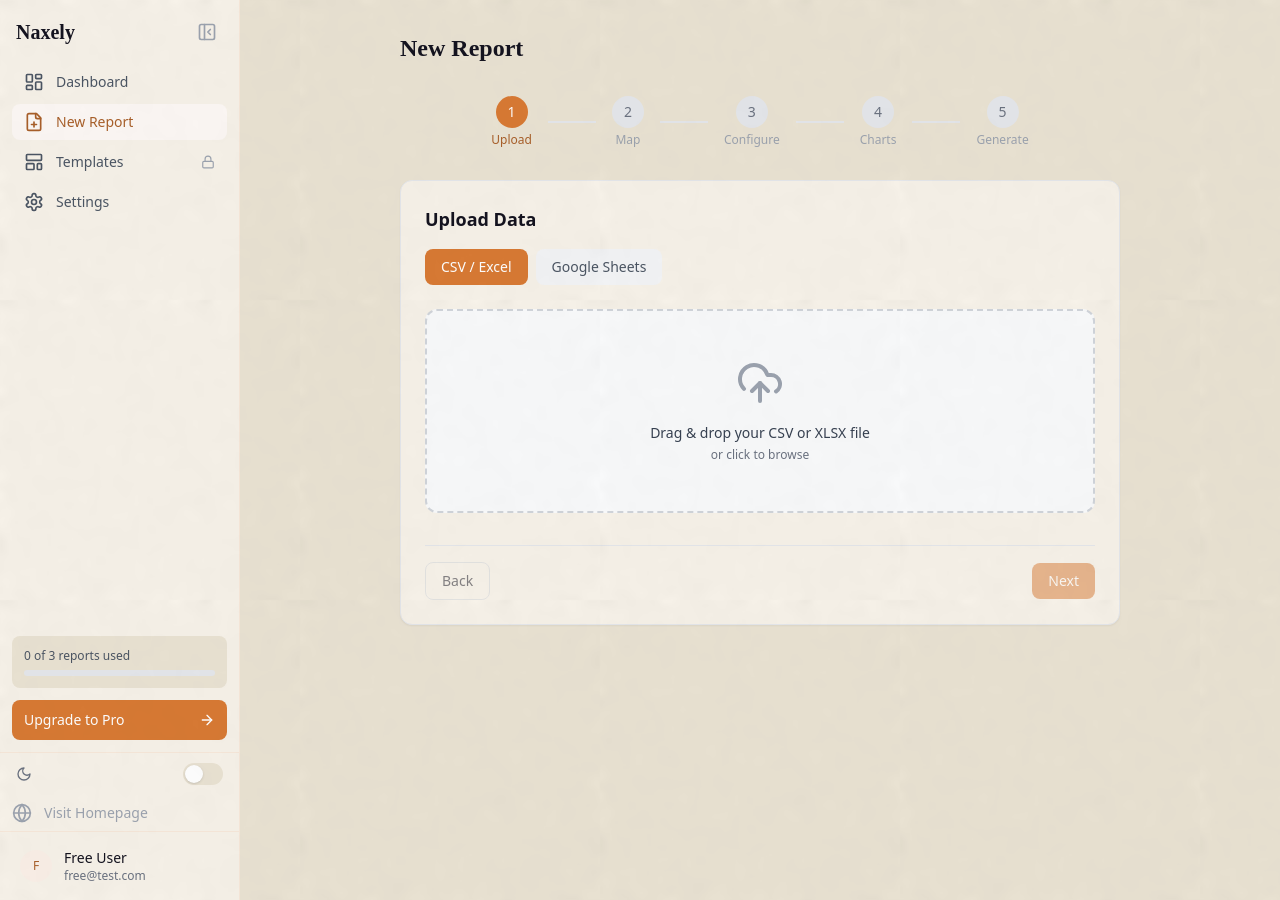
Scenario: NewReport › toggles between CSV and Google Sheets sources
Expected: the button "CSV / Excel" is shown, [425,249,528,285]
What coordinates should you click on to do the following:
click the button "Google Sheets"
I would click on:
 (599, 267)
Its box is [536,249,662,285].
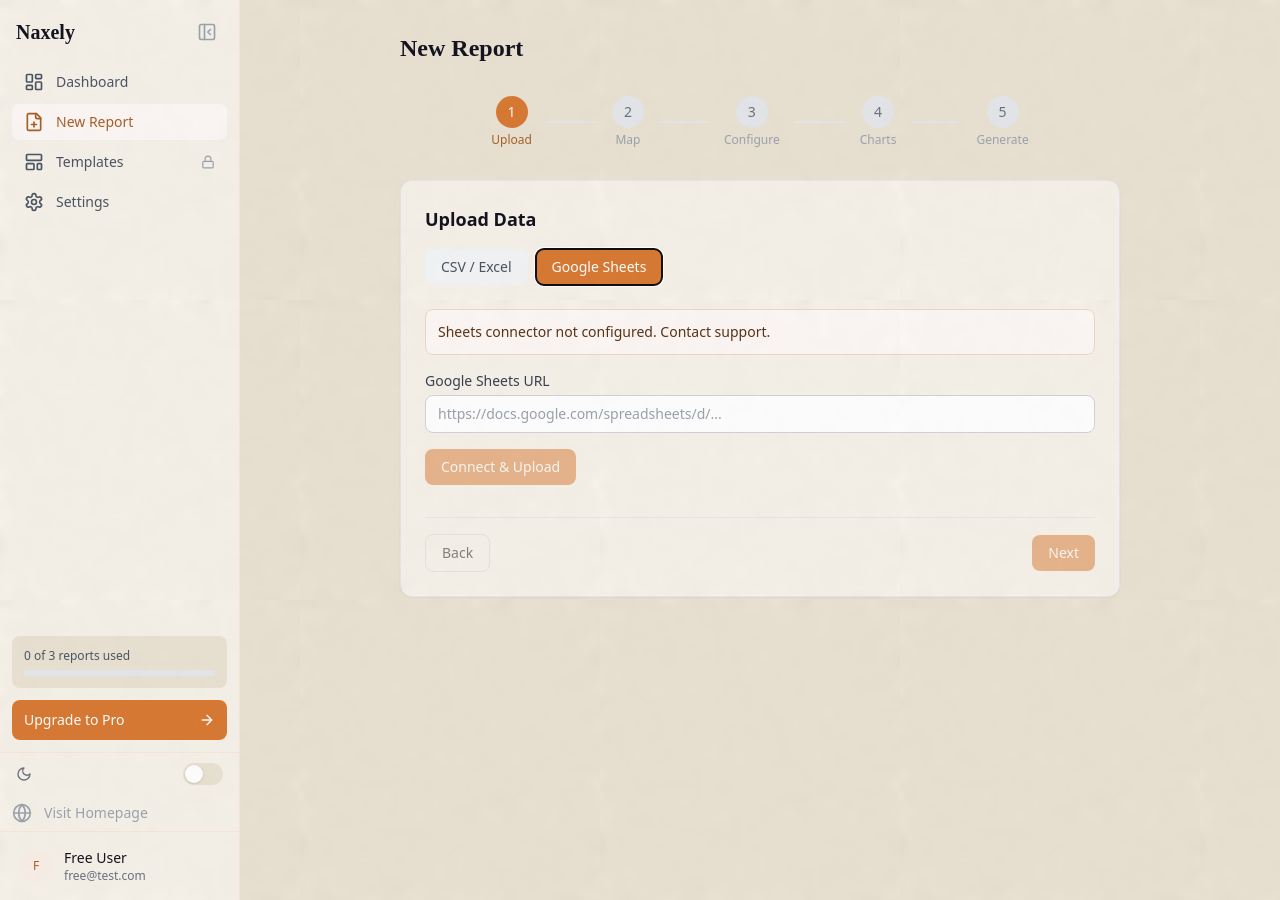
Now the field with placeholder "https://docs.google.com/spreadsheets/d/..." is shown, box [425,395,1095,433]
